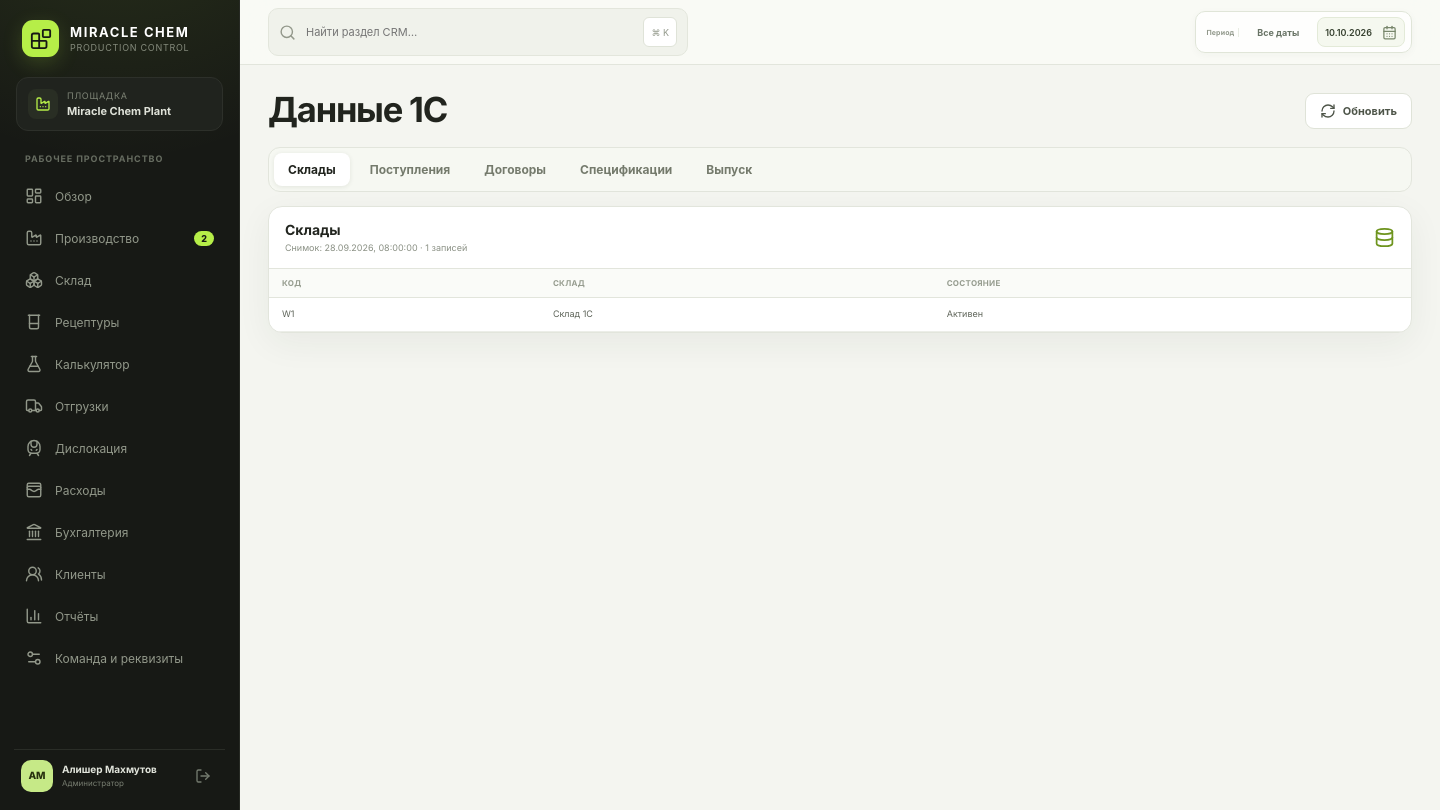
it: Miracle Chem app shell › opens read-only 1C source views and switches between permitted collections
This screenshot has width=1440, height=810.
Expected: the heading "Данные 1С" is shown, [268,93,447,129]
Expected: the text "Склад 1С" is shown, [540,298,934,332]
Click the button "Договоры" at (515,170), box [470,153,560,186]
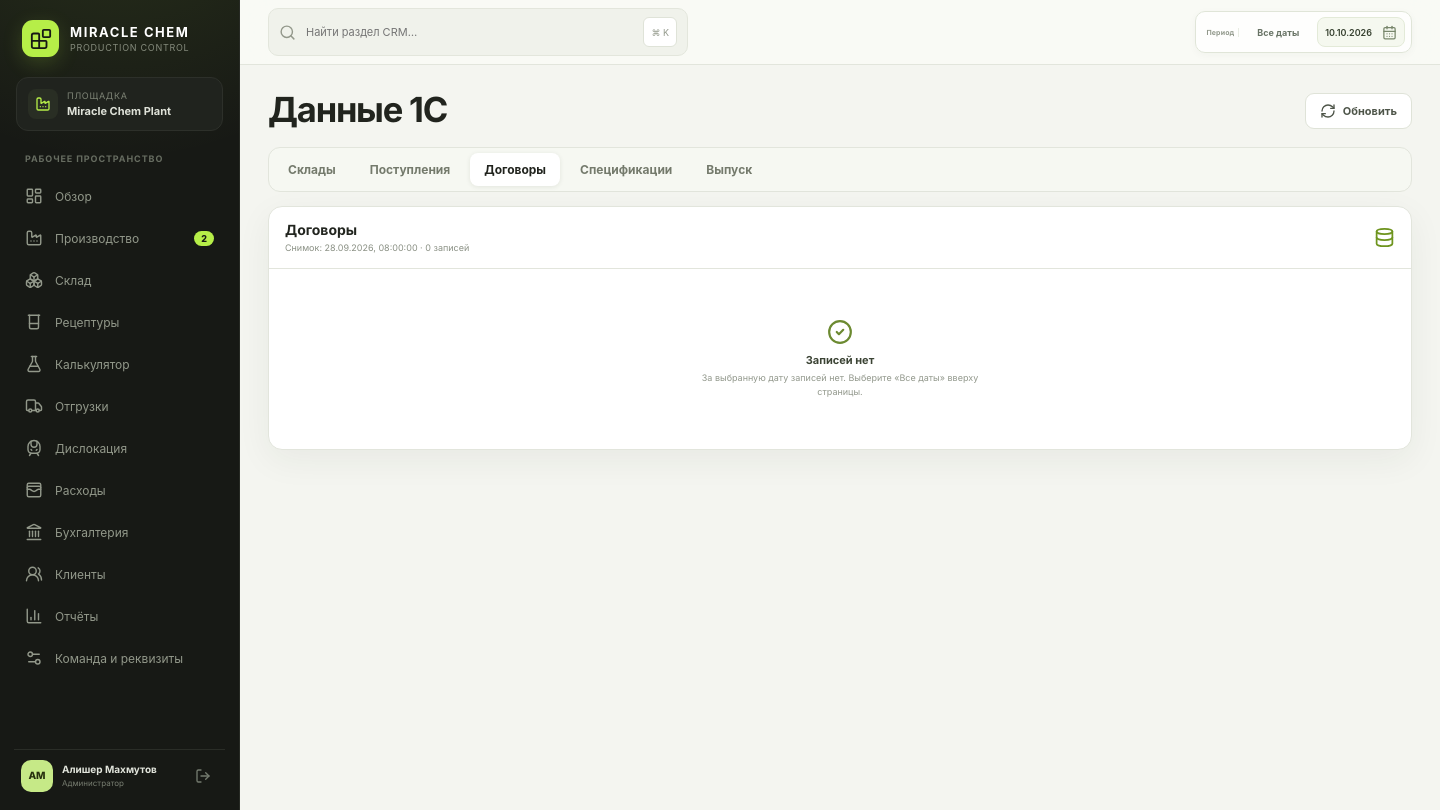
Now the text "За выбранную дату записей нет. Выберите «Все даты» вверху страницы." is shown, box [690,372,990,399]
Click the button "Все даты" at (1278,32), box [1247,17,1309,47]
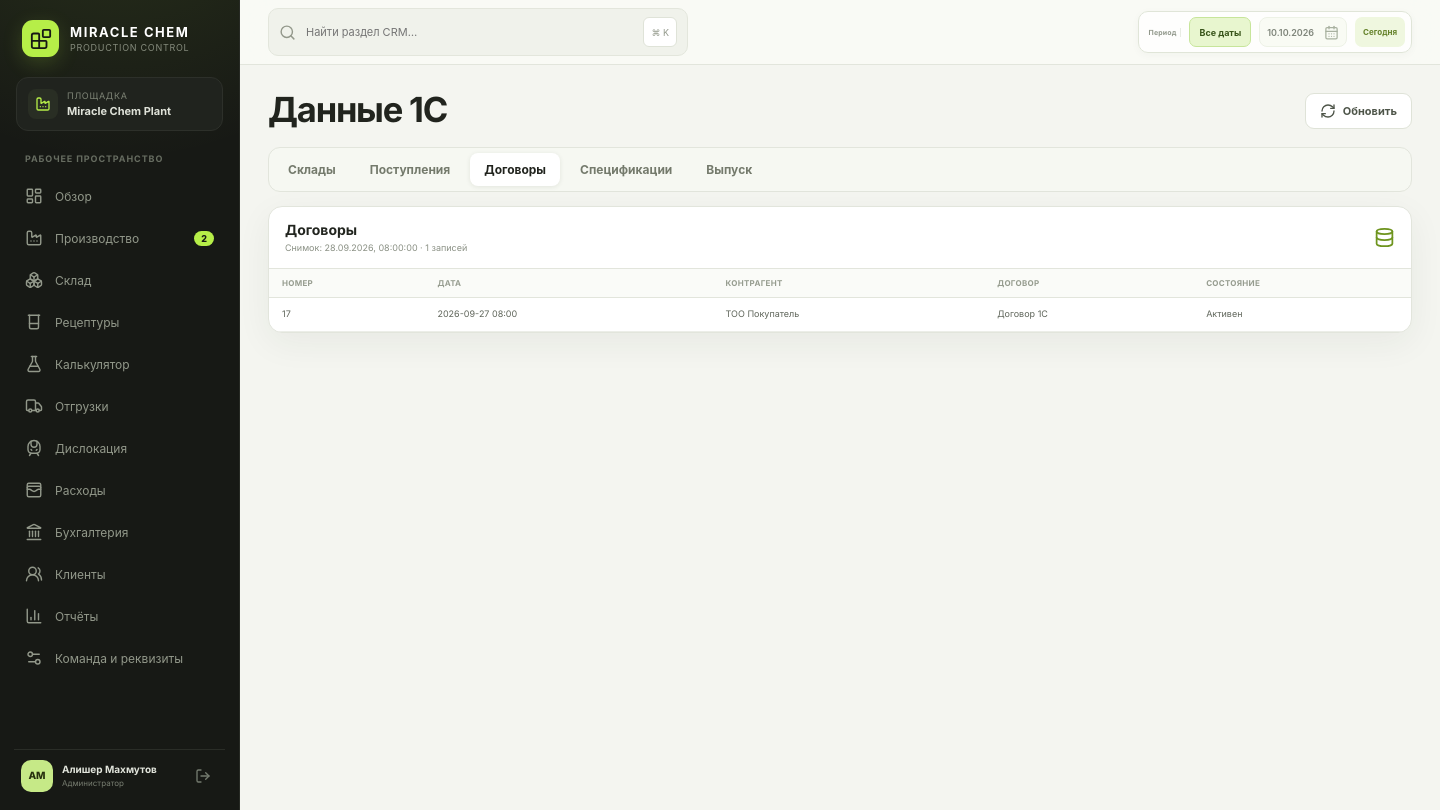
Expected: the text "Склад 1С" is not shown
Now the text "Договор 1С" is shown, box [984,298,1193,332]
